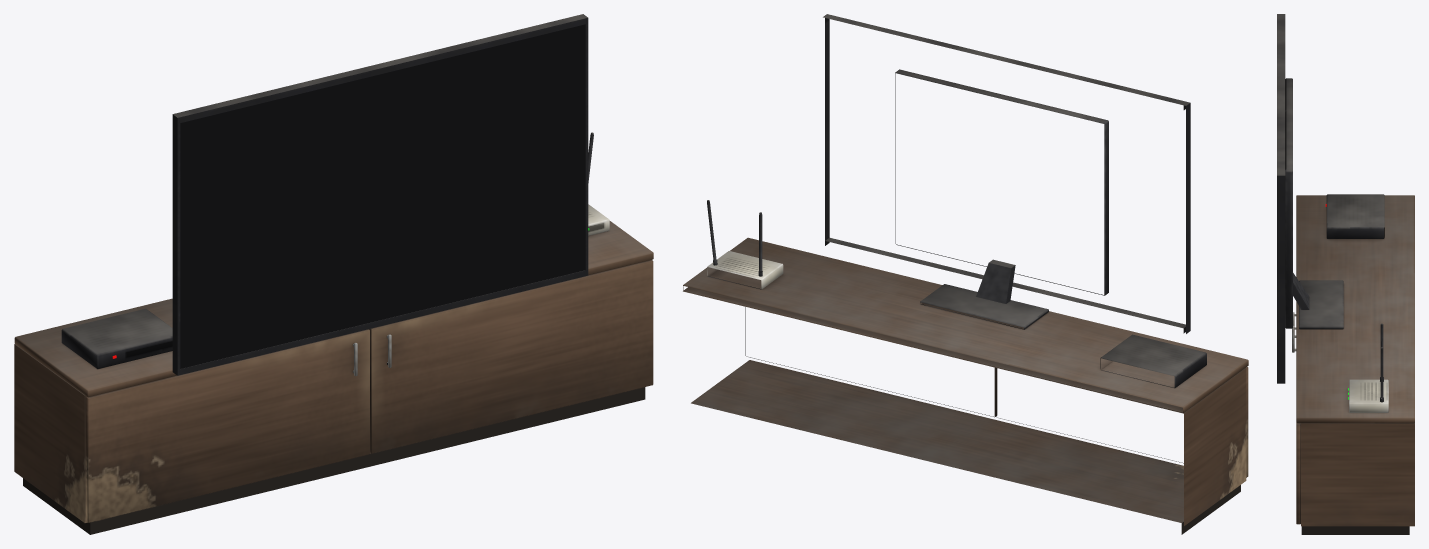
Rendered from tv_cabinet.glb.
3 renders of one model, left to right at view 1: azimuth 30°, elevation 25°; view 2: azimuth 150°, elevation 25°; view 3: azimuth 270°, elevation 25°, orthographic. The views are drawn at different scales.
Parts seen in each view (by area): view 1: TvCabinet, TvScreen; view 2: TvCabinet; view 3: TvCabinet.
Part boxes in pixels (box(x1,y1,x2,y2)): TvCabinet: box(14, 14, 653, 534); TvScreen: box(180, 24, 585, 368); TvCabinet: box(683, 14, 1248, 534); TvCabinet: box(1277, 14, 1414, 534).
Bounding box in the file's own units: 2 × 1.38 × 0.523.
Materials: 3 (2 with a texture image).
